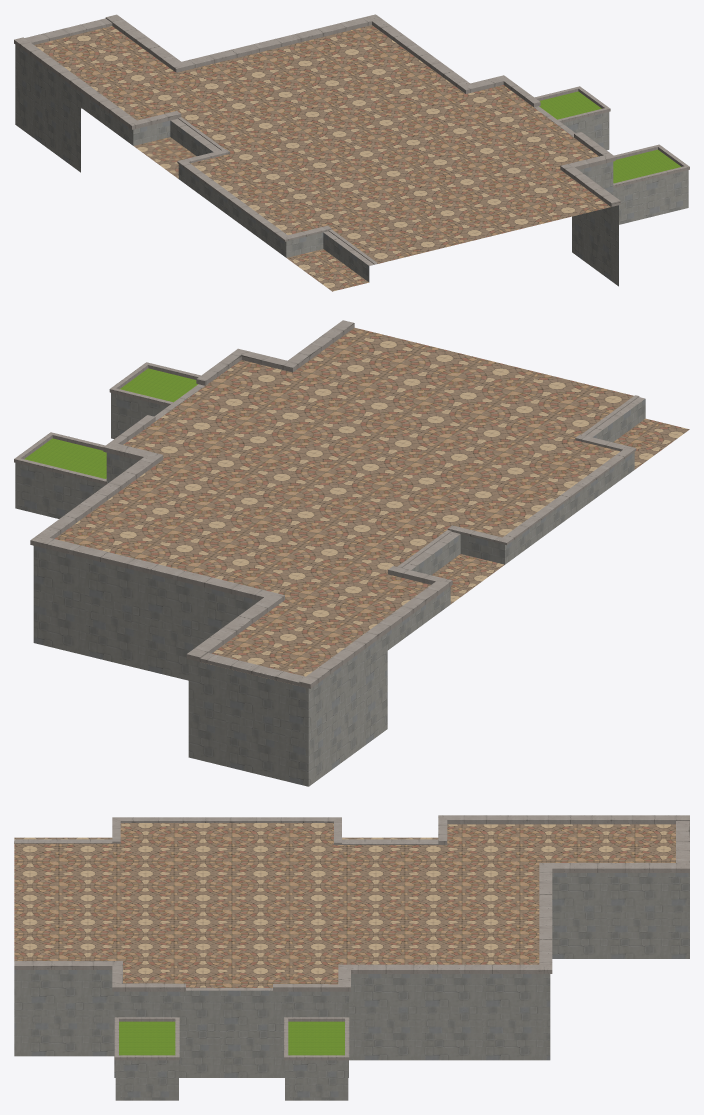
File: TownGroundTile_F.fbx
3 renders of one model, top to bottom at view 1: azimuth 30°, elevation 25°; view 2: azimuth 150°, elevation 25°; view 3: azimuth 270°, elevation 25°, orthographic. The views are drawn at different scales.
Visible parts, largest first — view 1: TownGroundTile_F; view 2: TownGroundTile_F; view 3: TownGroundTile_F.
Boxes of the visible parts, x1,y1,x2,y2 form: TownGroundTile_F: [14, 14, 689, 291]; TownGroundTile_F: [14, 320, 689, 786]; TownGroundTile_F: [14, 815, 689, 1100].
Bounding box in the file's own units: 6279 × 1266 × 8487.
Materials: 4 (4 with a texture image).
